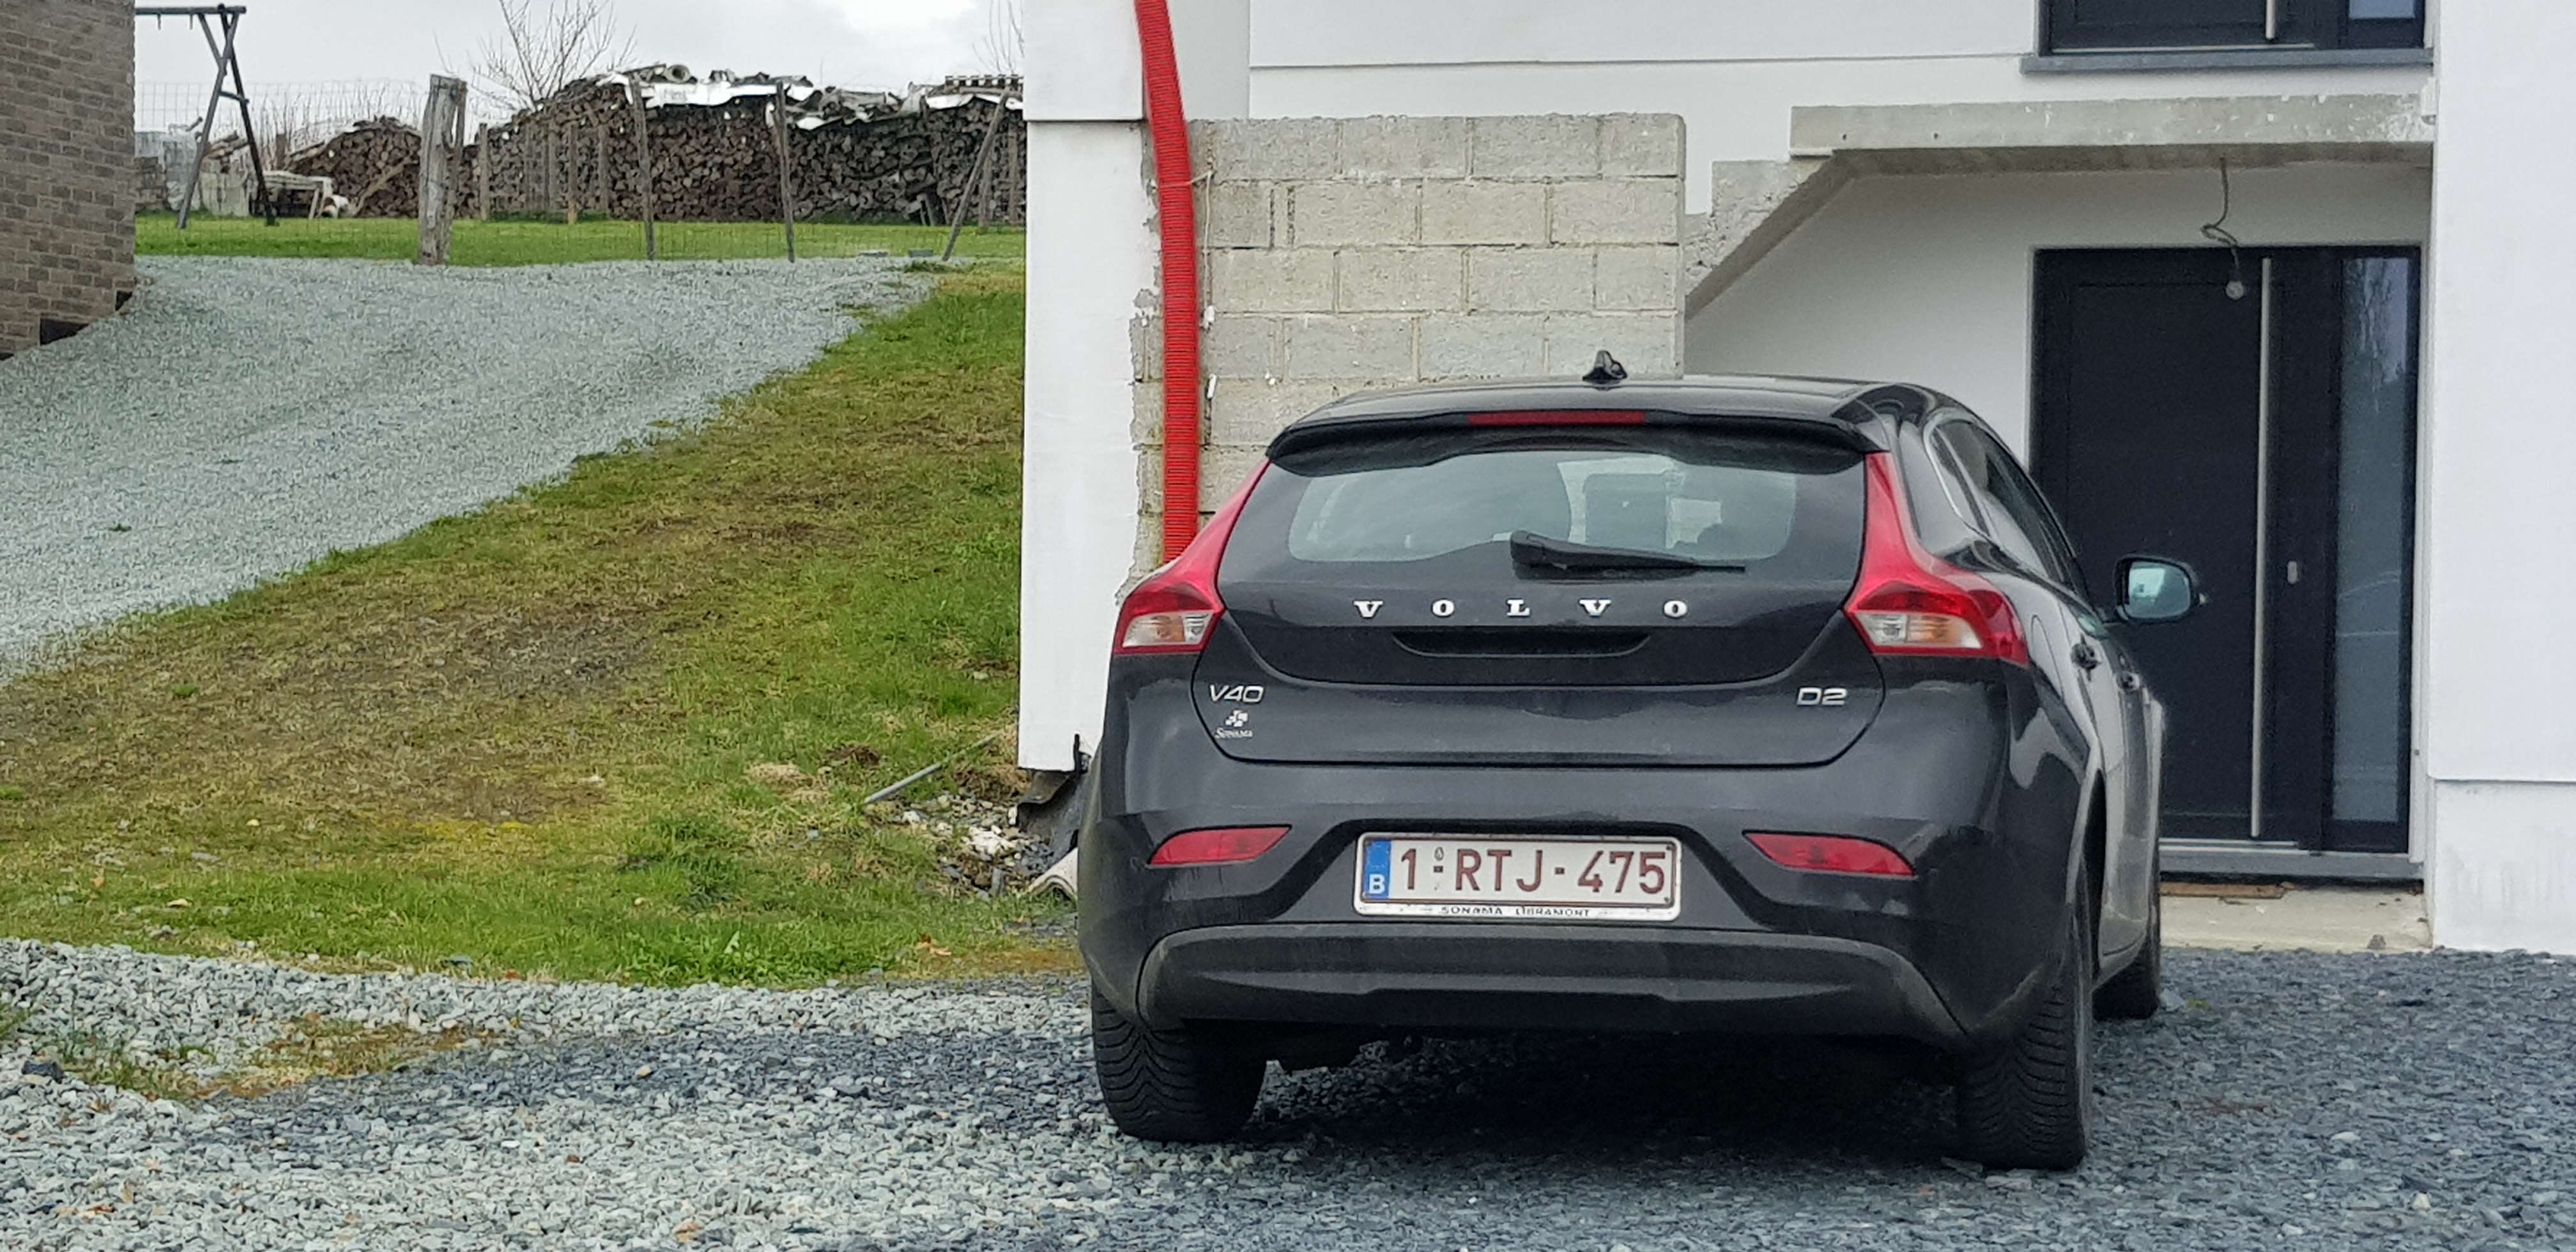licenceplate: (1361, 832, 1680, 913)
